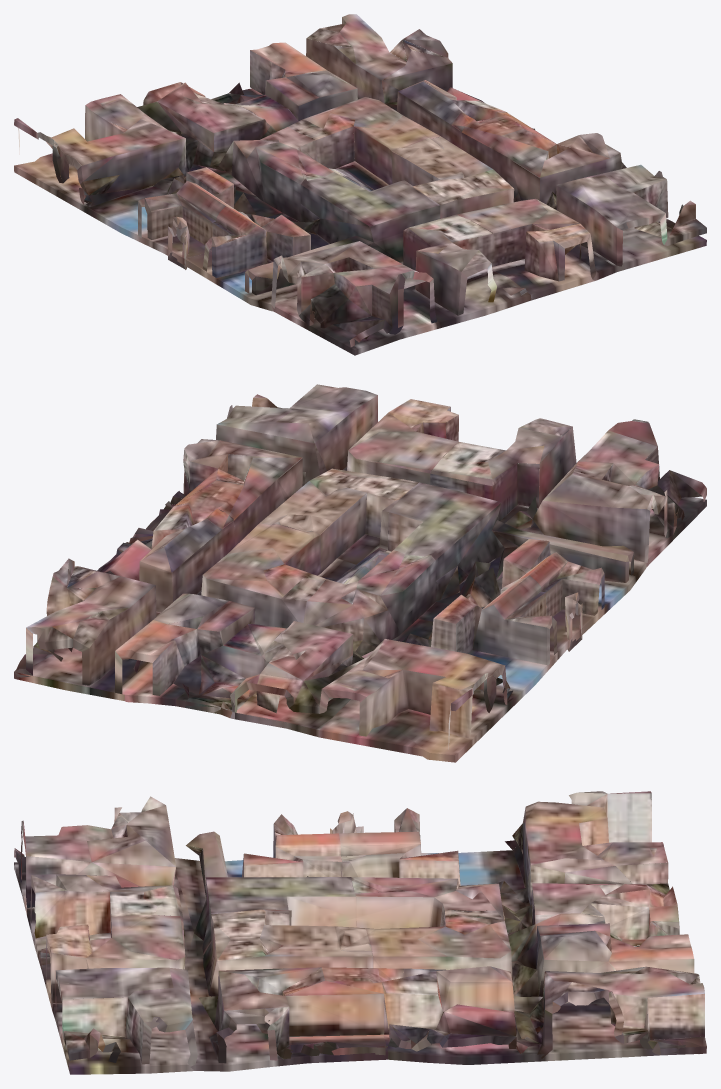
3 views of the same model, one above another, from view 1: azimuth 30°, elevation 25°; view 2: azimuth 150°, elevation 25°; view 3: azimuth 270°, elevation 25° (orthographic). The views are drawn at different scales.
Parts seen in each view (by area): view 1: Mesh_0; view 2: Mesh_0; view 3: Mesh_0.
Part boxes in pixels (left/top/right/bottom): Mesh_0: left=14, top=14, right=706, bottom=355; Mesh_0: left=14, top=384, right=706, bottom=762; Mesh_0: left=14, top=791, right=706, bottom=1074.
Size of the model in its own units: 266 by 47.21 by 330.
2 materials, 2 textured.
